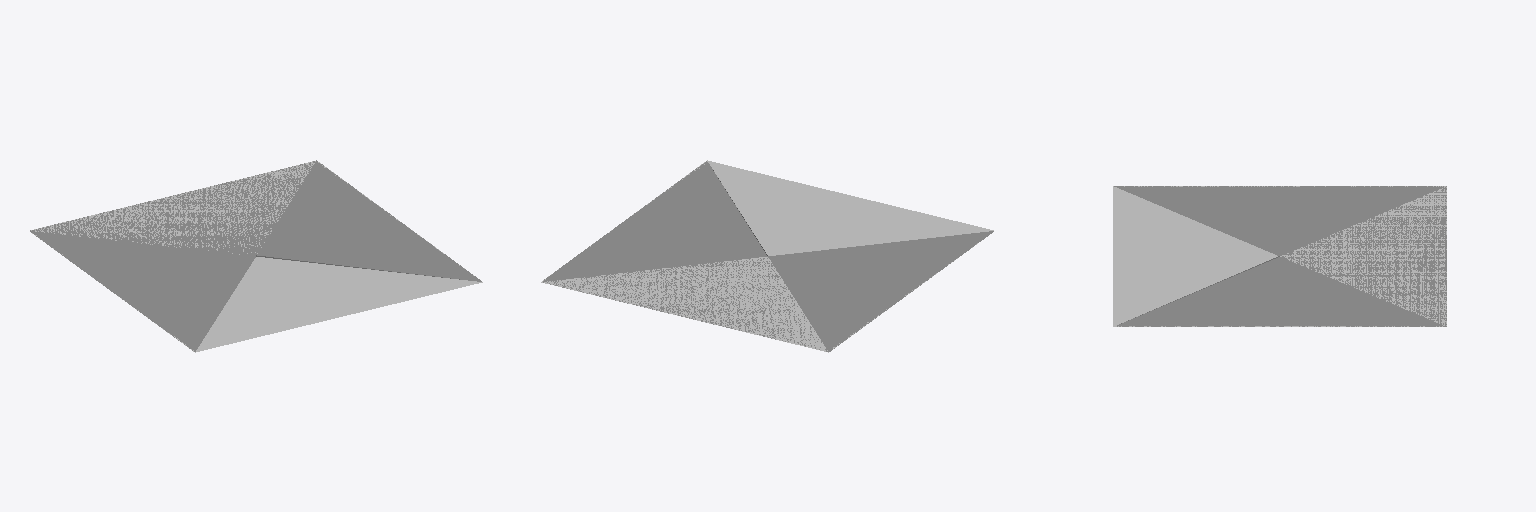
File: frame3.obj
3 renders of one model, left to right at view 1: azimuth 30°, elevation 25°; view 2: azimuth 150°, elevation 25°; view 3: azimuth 270°, elevation 25°, orthographic.
Parts seen in each view (by area): view 1: Cube, ground; view 2: Cube, ground; view 3: Cube, ground.
Boxes of the visible parts, x1=… form: Cube: x1=30, y1=160, x2=481, y2=351; ground: x1=31, y1=161, x2=482, y2=352; Cube: x1=543, y1=161, x2=993, y2=351; ground: x1=541, y1=160, x2=993, y2=352; Cube: x1=1114, y1=186, x2=1446, y2=326; ground: x1=1113, y1=186, x2=1446, y2=326.
Bounding box in the file's own units: 2000 × 7 × 2000.